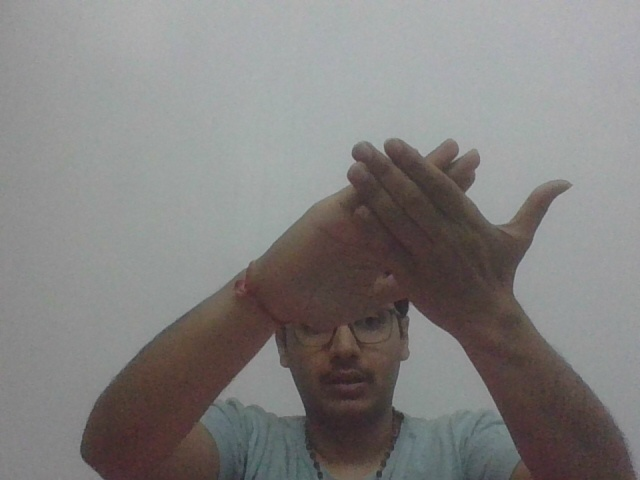H: (230, 120, 578, 323)
